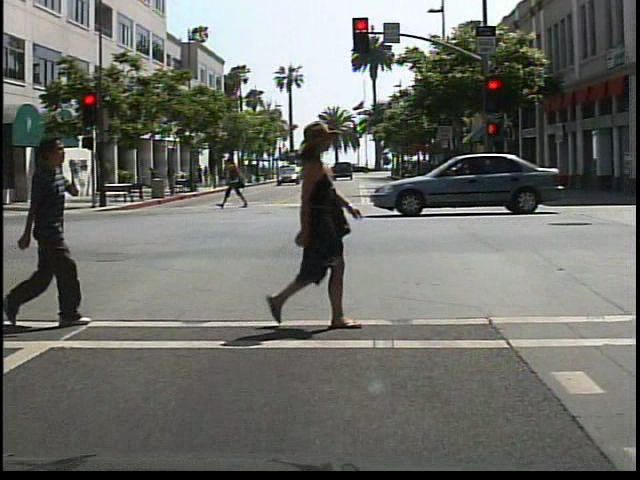person: (254, 127, 372, 338), (14, 129, 97, 330), (221, 155, 248, 210), (147, 164, 168, 196)
